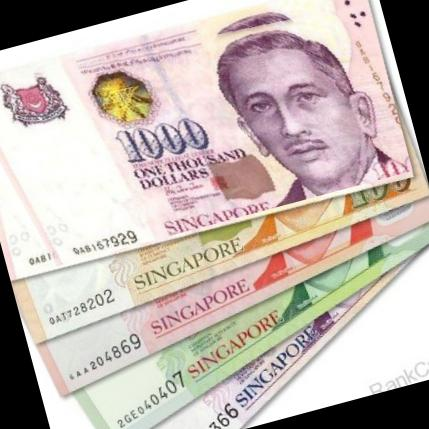1000SingaporeDollar: (0, 0, 412, 278)
